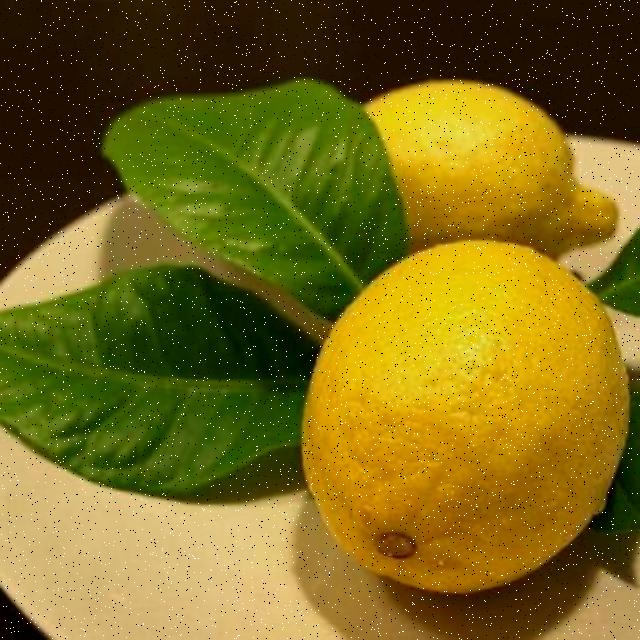Lemon: (303, 241, 630, 594), (365, 79, 620, 256)
